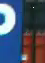Parking: (0, 1, 24, 61)
